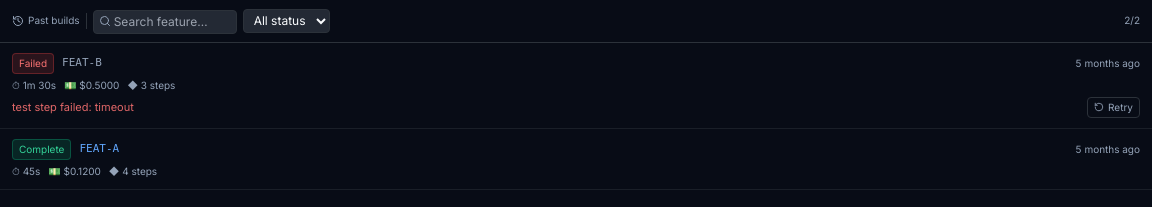
Test: PastBuildsView (COCKPIT-3) › filters by status
Step 1. Select "complete" in the dropdown → (286, 21), box [243,9,330,33]
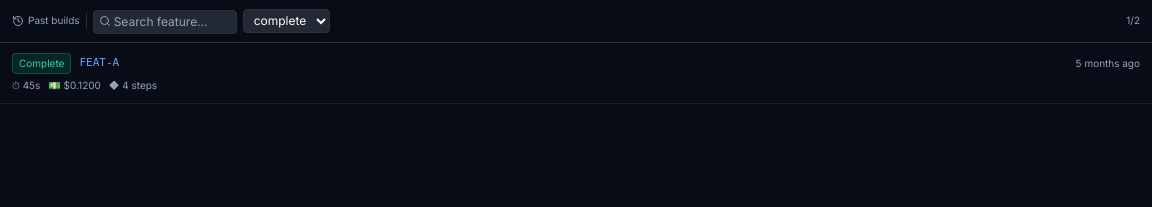
Expected: the button "FEAT-A" is shown, [80,55,119,71]
Now the button "FEAT-B" is gone
